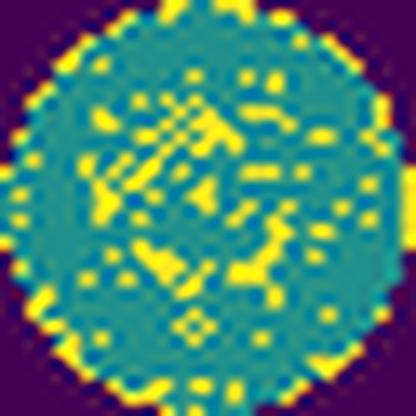Donut: (85, 82, 331, 317)
